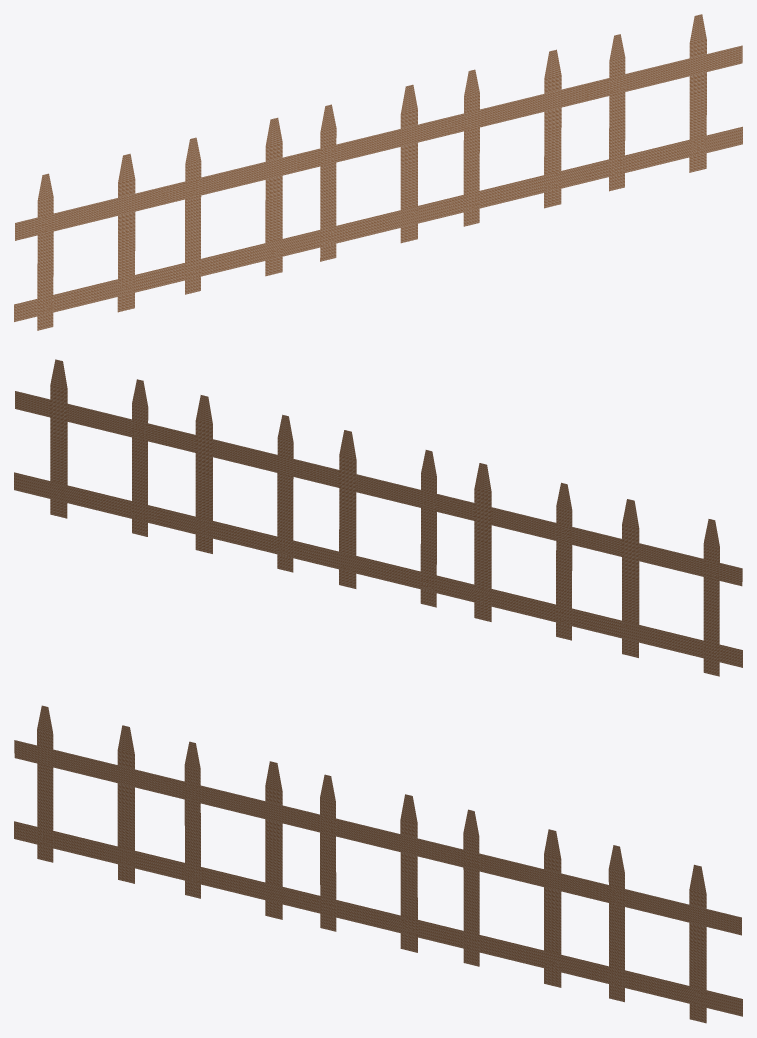
File: saku.FBX
The picture shows the model from 3 angles, top to bottom: view 1: azimuth 30°, elevation 25°; view 2: azimuth 150°, elevation 25°; view 3: azimuth 330°, elevation 25°; orthographic projection.
Visible parts, largest first — view 1: Plane005; view 2: Plane005; view 3: Plane005.
Boxes of the visible parts, x1,y1,x2,y2 form: Plane005: [14, 14, 742, 330]; Plane005: [14, 359, 742, 676]; Plane005: [14, 705, 742, 1023].
Size of the model in its own units: 9.9 by 2.03 by 0.00917.
